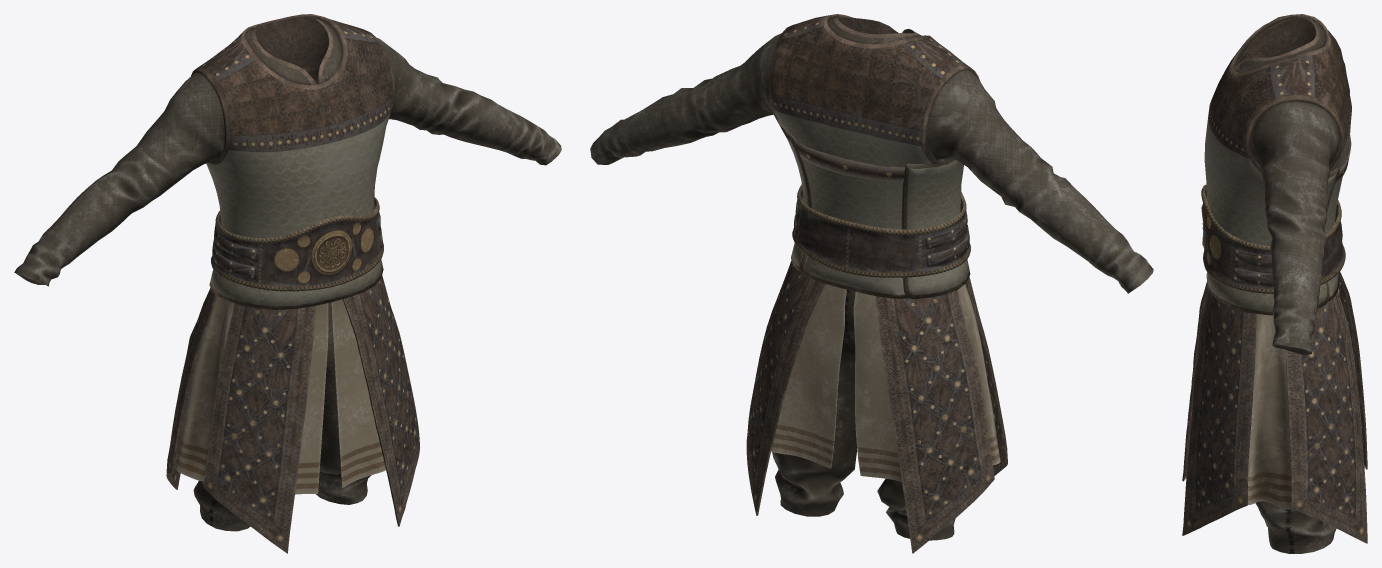
File: dunland_wulf_scalemail_heavy_e.fbx
3 views of the same model, side by side, from view 1: azimuth 30°, elevation 25°; view 2: azimuth 150°, elevation 25°; view 3: azimuth 270°, elevation 25° (orthographic). The views are drawn at different scales.
Parts seen in each view (by area): view 1: dunland_wulf_scalemail_heavy_e.base, dunland_wulf_scalemail_heavy_e.leatherskirt, dunland_wulf_scalemail_heavy_e.skirt, dunland_wulf_scalemail_heavy_e.belt; view 2: dunland_wulf_scalemail_heavy_e.base, dunland_wulf_scalemail_heavy_e.leatherskirt, dunland_wulf_scalemail_heavy_e.skirt, dunland_wulf_scalemail_heavy_e.belt, dunland_wulf_scalemail_heavy_e.prop; view 3: dunland_wulf_scalemail_heavy_e.base, dunland_wulf_scalemail_heavy_e.leatherskirt, dunland_wulf_scalemail_heavy_e.skirt, dunland_wulf_scalemail_heavy_e.belt.
Boxes of the visible parts, <box> form: dunland_wulf_scalemail_heavy_e.base: <box>14,14,561,531</box>; dunland_wulf_scalemail_heavy_e.leatherskirt: <box>166,275,419,553</box>; dunland_wulf_scalemail_heavy_e.skirt: <box>175,295,385,494</box>; dunland_wulf_scalemail_heavy_e.belt: <box>211,197,383,291</box>; dunland_wulf_scalemail_heavy_e.base: <box>590,14,1153,540</box>; dunland_wulf_scalemail_heavy_e.leatherskirt: <box>746,260,1007,553</box>; dunland_wulf_scalemail_heavy_e.skirt: <box>771,283,1000,482</box>; dunland_wulf_scalemail_heavy_e.belt: <box>792,184,970,277</box>; dunland_wulf_scalemail_heavy_e.prop: <box>794,141,904,181</box>; dunland_wulf_scalemail_heavy_e.base: <box>1204,14,1351,553</box>; dunland_wulf_scalemail_heavy_e.leatherskirt: <box>1182,271,1367,543</box>; dunland_wulf_scalemail_heavy_e.skirt: <box>1248,288,1339,508</box>; dunland_wulf_scalemail_heavy_e.belt: <box>1201,184,1345,293</box>.
Bounding box in the file's own units: 1.38 × 0.4077 × 1.18.
4 materials, 4 textured.
